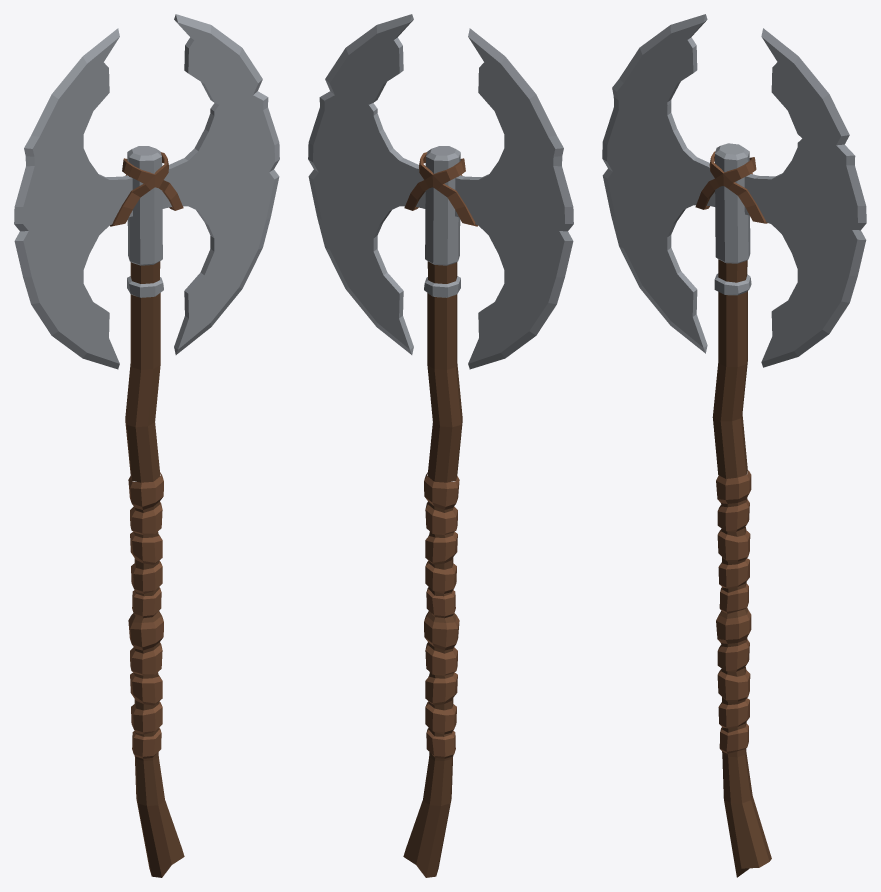
The model's file is Axe_Double.glb.
3 views of the same model, side by side, from view 1: azimuth 30°, elevation 25°; view 2: azimuth 150°, elevation 25°; view 3: azimuth 330°, elevation 25° (orthographic).
Visible parts, largest first — view 1: Steel, DarkWood, LightWood, LightSteel; view 2: Steel, DarkWood, LightWood, LightSteel; view 3: Steel, DarkWood, LightWood, LightSteel.
Boxes of the visible parts, x1,y1,x2,y2 form: Steel: (23,20,274,363); DarkWood: (125,261,184,877); LightWood: (110,152,183,758); LightSteel: (14,14,279,369); Steel: (313,20,564,363); DarkWood: (403,261,462,877); LightWood: (404,152,477,758); LightSteel: (308,14,573,369); Steel: (607,20,857,361); DarkWood: (712,259,771,877); LightWood: (695,151,767,753); LightSteel: (602,14,866,367).
Bounding box in the file's own units: 2.06 × 6.35 × 0.2609.
